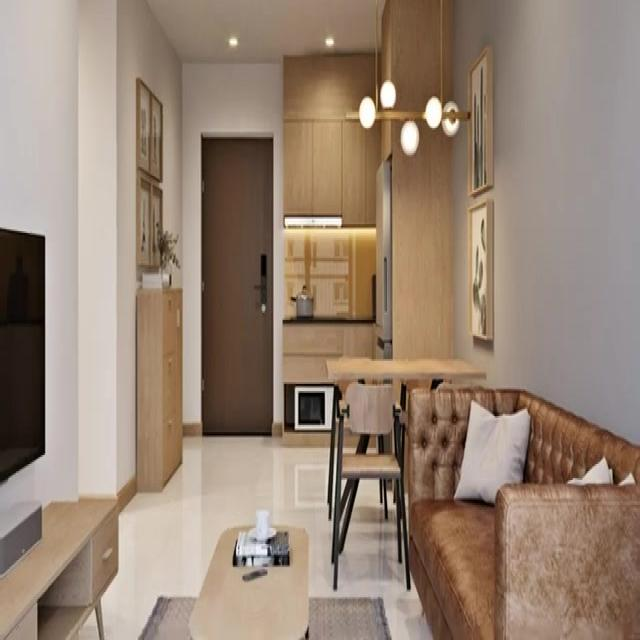door: (200, 133, 273, 434)
obstacle: (404, 382, 639, 638), (332, 384, 409, 593), (188, 523, 309, 638), (135, 286, 182, 492)
